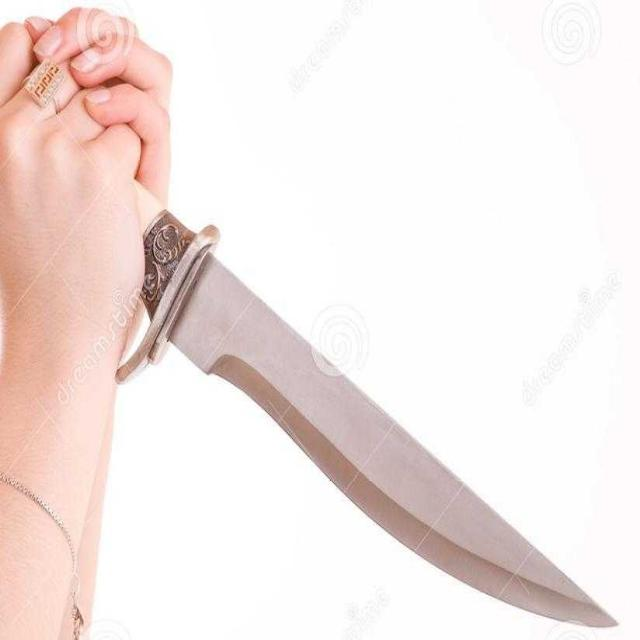Knife: (12, 68, 622, 630)
